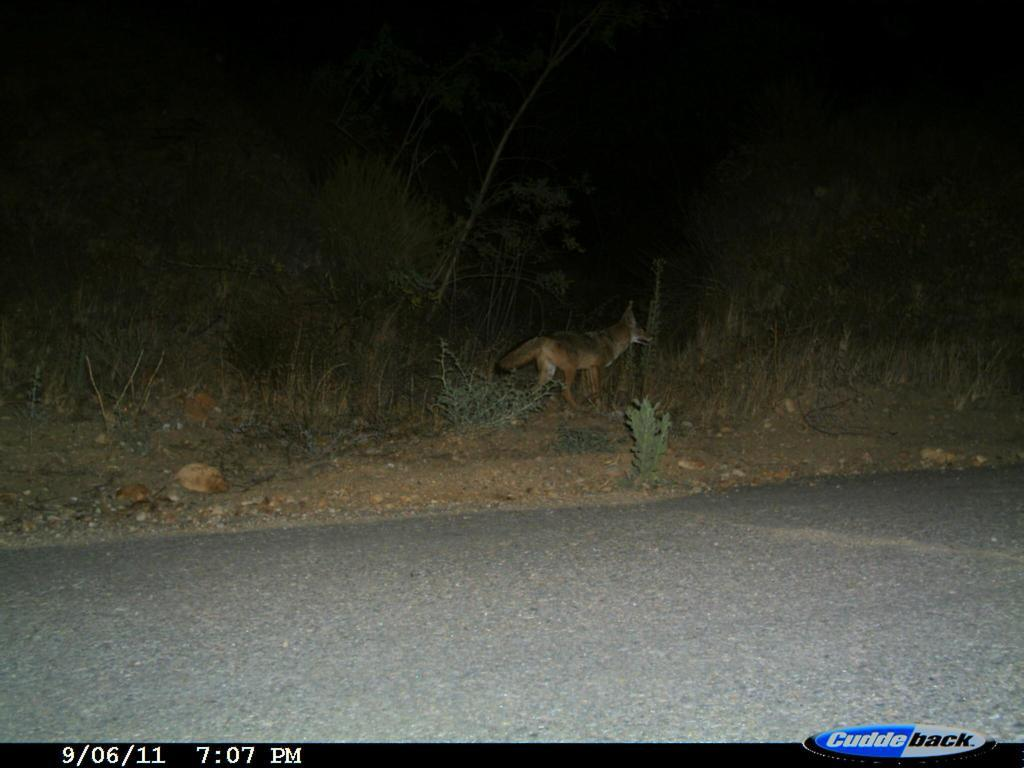coyote: (493, 296, 662, 433)
